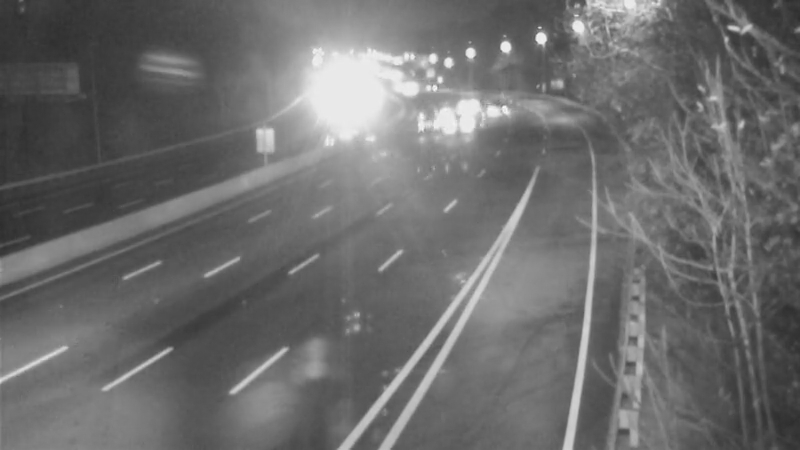vehicle: (436, 78, 486, 128), (417, 89, 467, 139), (468, 81, 518, 131), (405, 92, 455, 142), (437, 96, 487, 146)
